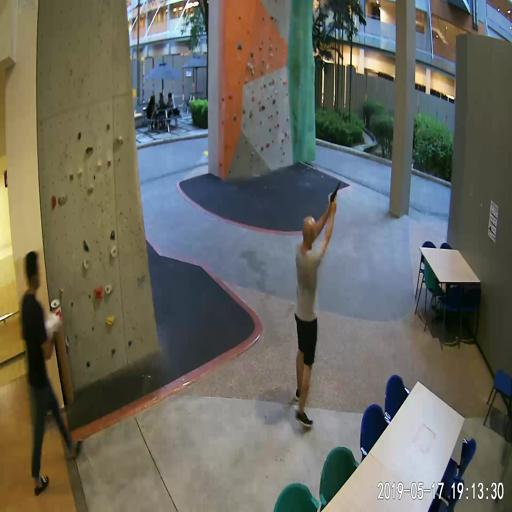pistol: (330, 182, 340, 207)
